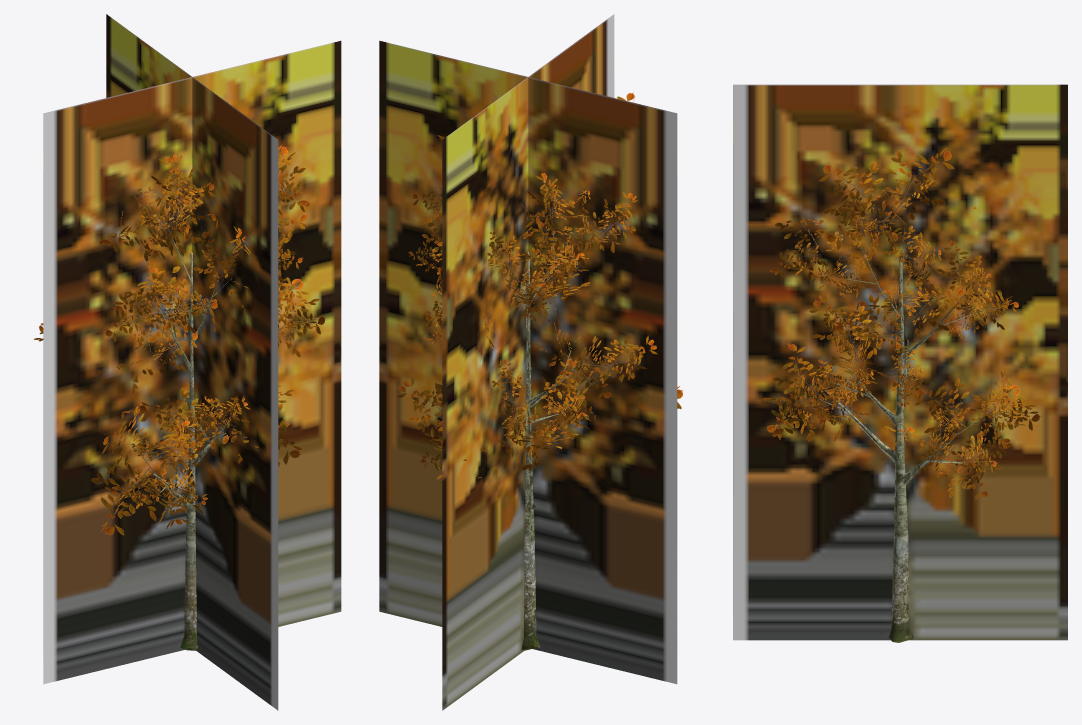
Rendered from Tree-Beech2B-mobile.fbx.
3 views of the same model, side by side, from view 1: azimuth 30°, elevation 25°; view 2: azimuth 150°, elevation 25°; view 3: azimuth 270°, elevation 25° (orthographic). The views are drawn at different scales.
Parts seen in each view (by area): view 1: Billboard-BeechB, Tree-Beech2B-mobile_LOD0; view 2: Billboard-BeechB, Tree-Beech2B-mobile_LOD0; view 3: Billboard-BeechB, Tree-Beech2B-mobile_LOD0.
Part boxes in pixels (x1,y1,x2,y2): Billboard-BeechB: (43, 14, 341, 710); Tree-Beech2B-mobile_LOD0: (33, 145, 325, 650); Billboard-BeechB: (379, 14, 677, 710); Tree-Beech2B-mobile_LOD0: (397, 92, 682, 650); Billboard-BeechB: (733, 84, 1067, 640); Tree-Beech2B-mobile_LOD0: (763, 148, 1040, 642).
Size of what is drawn, in the model's own units: 1712 by 3101 by 1694.
